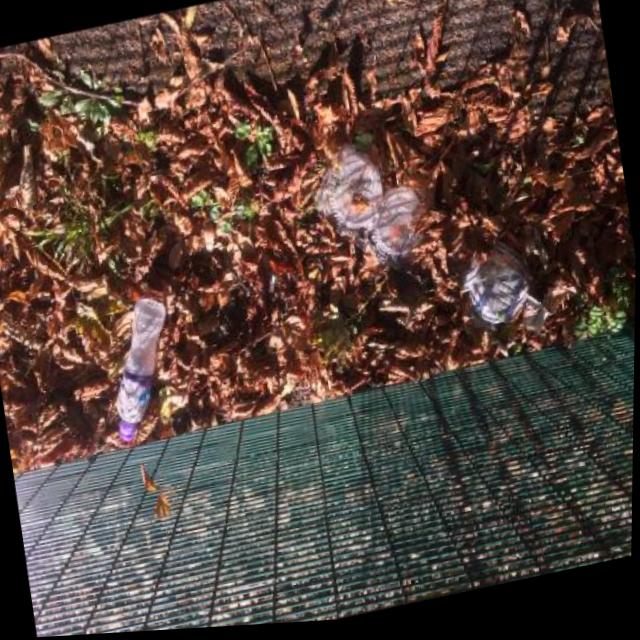plastic: (304, 125, 440, 288), (98, 289, 186, 442), (437, 220, 540, 340)
